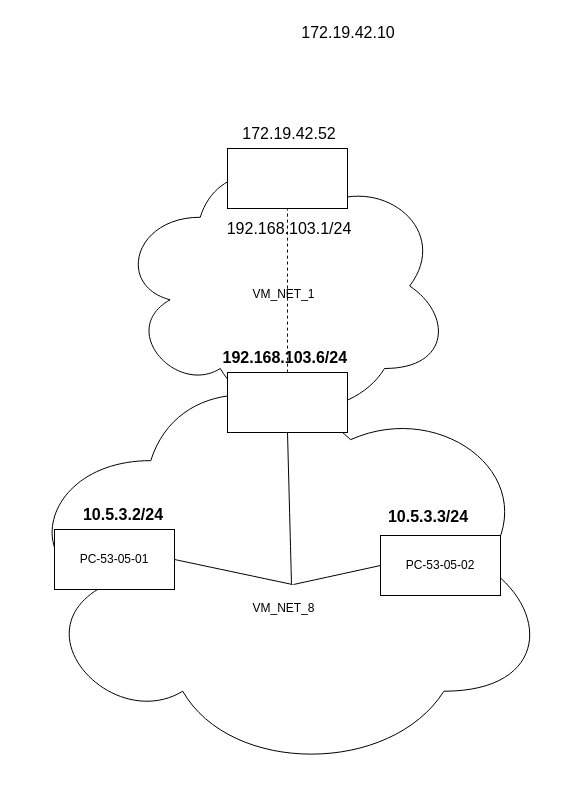
This 568x793 diagram has some shape labels left out. Each missing label, with the centre of its shape:
"PC-53" belongs at (287,178).
"serv" belongs at (287,402).
